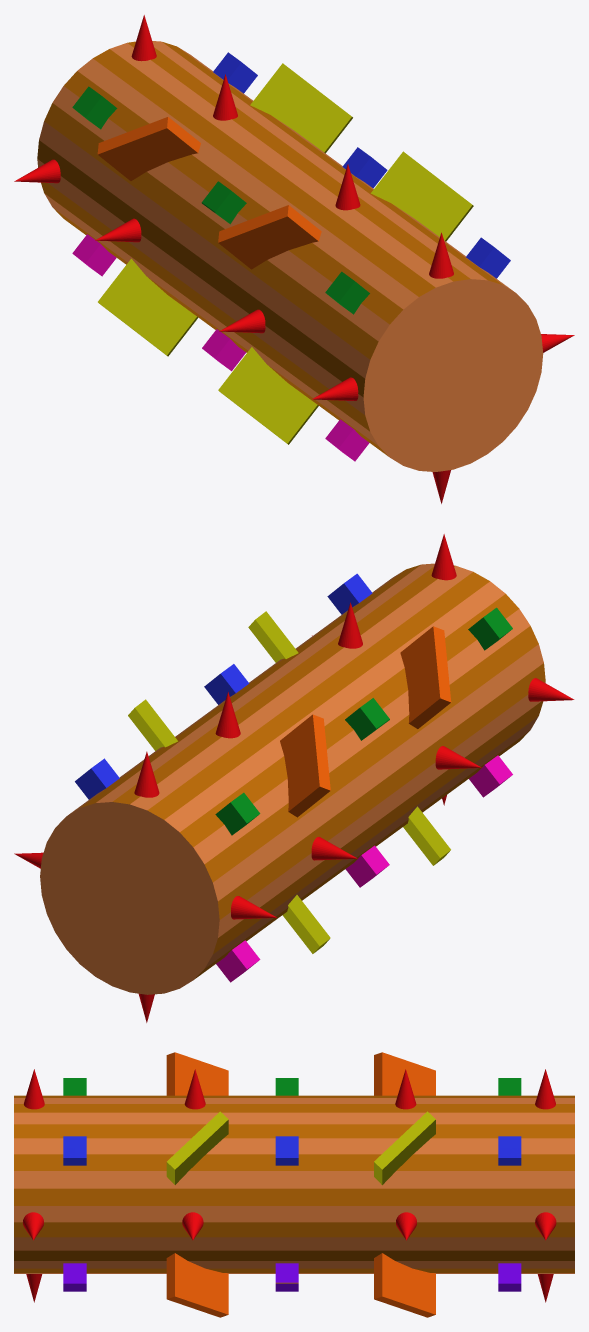
File: rotator.fbx
The picture shows the model from 3 angles, top to bottom: view 1: azimuth 30°, elevation 25°; view 2: azimuth 150°, elevation 25°; view 3: azimuth 270°, elevation 25°; orthographic projection. The views are drawn at different scales.
Visible parts, largest first — view 1: Cube; view 2: Cube; view 3: Cube.
Boxes of the visible parts, <box> form: Cube: <box>14,15,574,503</box>; Cube: <box>14,534,574,1022</box>; Cube: <box>14,1052,574,1317</box>.
Size of the model in its own units: 5135 by 5080 by 11018.
